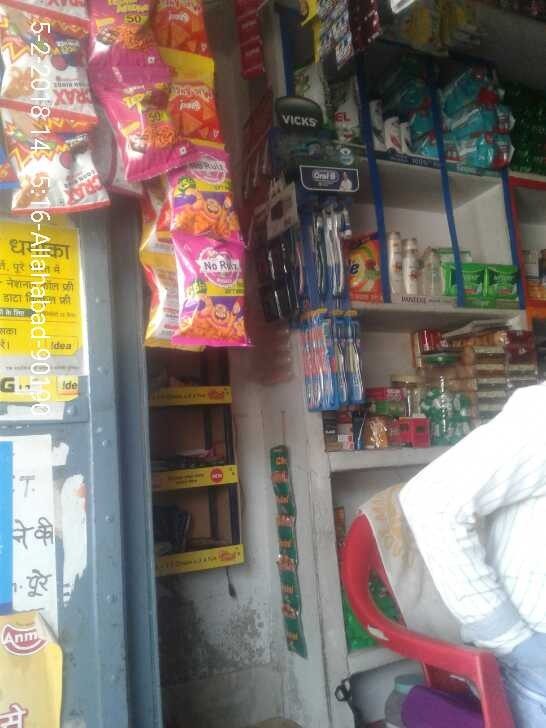beauty: (382, 229, 402, 301), (401, 236, 420, 300), (368, 94, 384, 151), (381, 109, 401, 151), (401, 118, 411, 157)
pharmacy: (418, 129, 517, 169), (314, 206, 349, 300), (332, 318, 352, 404), (440, 260, 485, 298), (346, 321, 366, 401), (317, 317, 333, 409), (483, 262, 518, 301)
